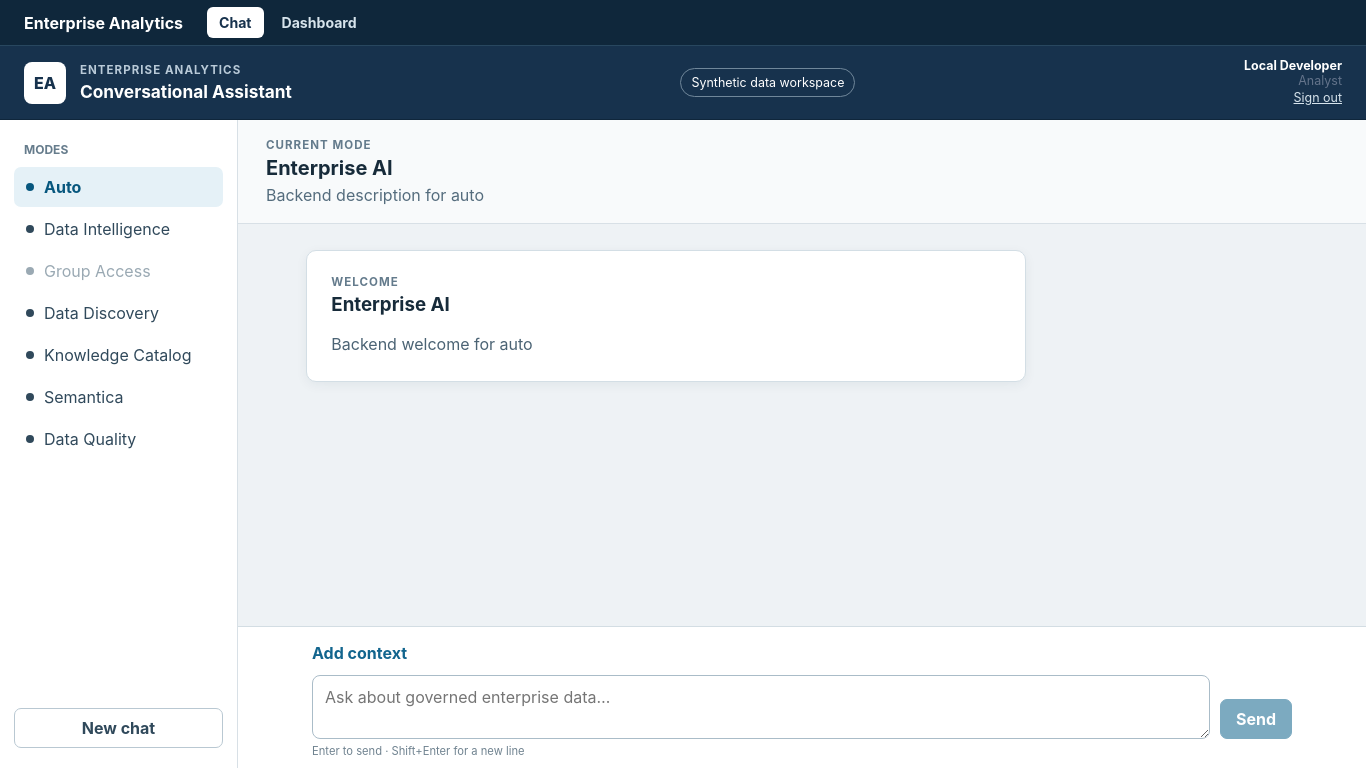
Scenario: One UI › current-turn context is feature gated and clears after successful send
expect the text "Backend welcome for auto" is shown: met, box x1=331 y1=334 x2=533 y2=354
Click the button "Add context" at x=360, y=653, box x1=312 y1=639 x2=407 y2=667
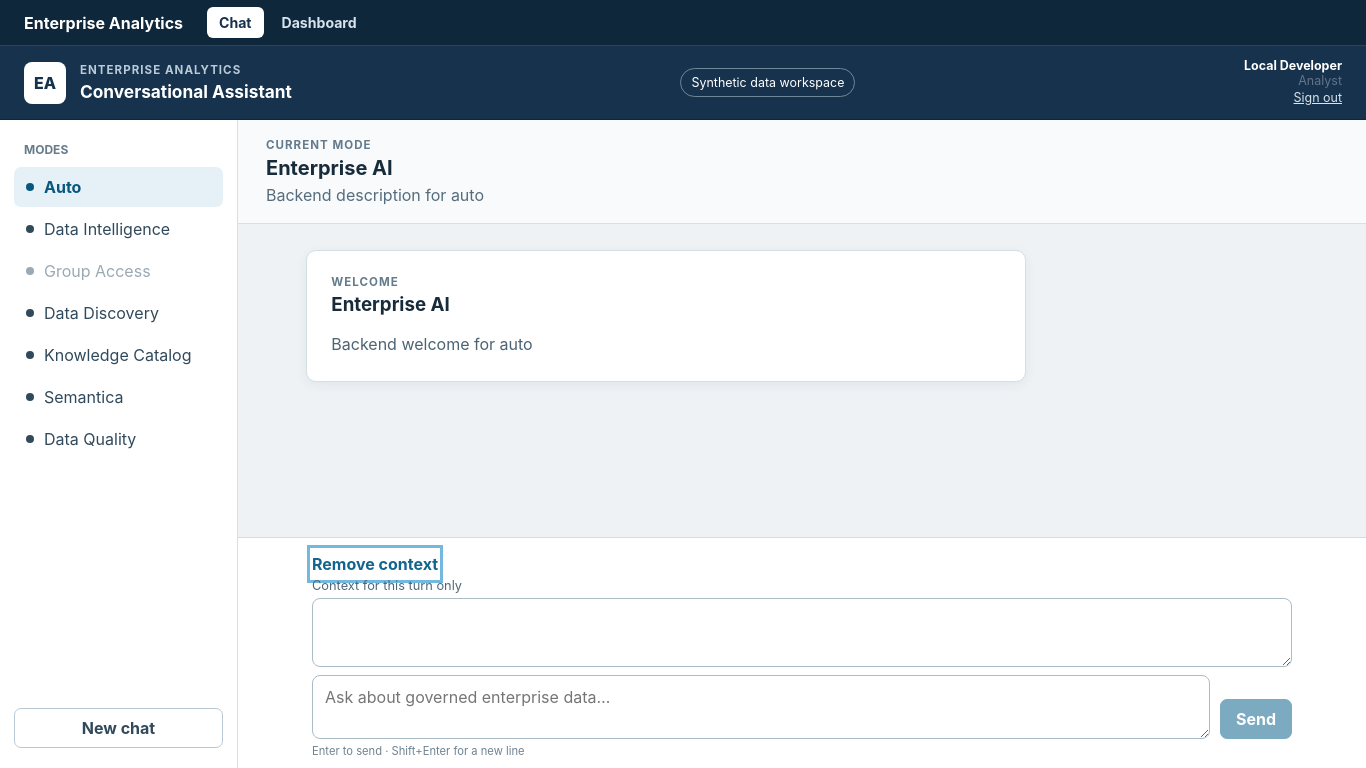
Type "Temporary context" into the text box labelled "Context for this turn only" at x=802, y=632, box x1=312 y1=598 x2=1292 y2=667
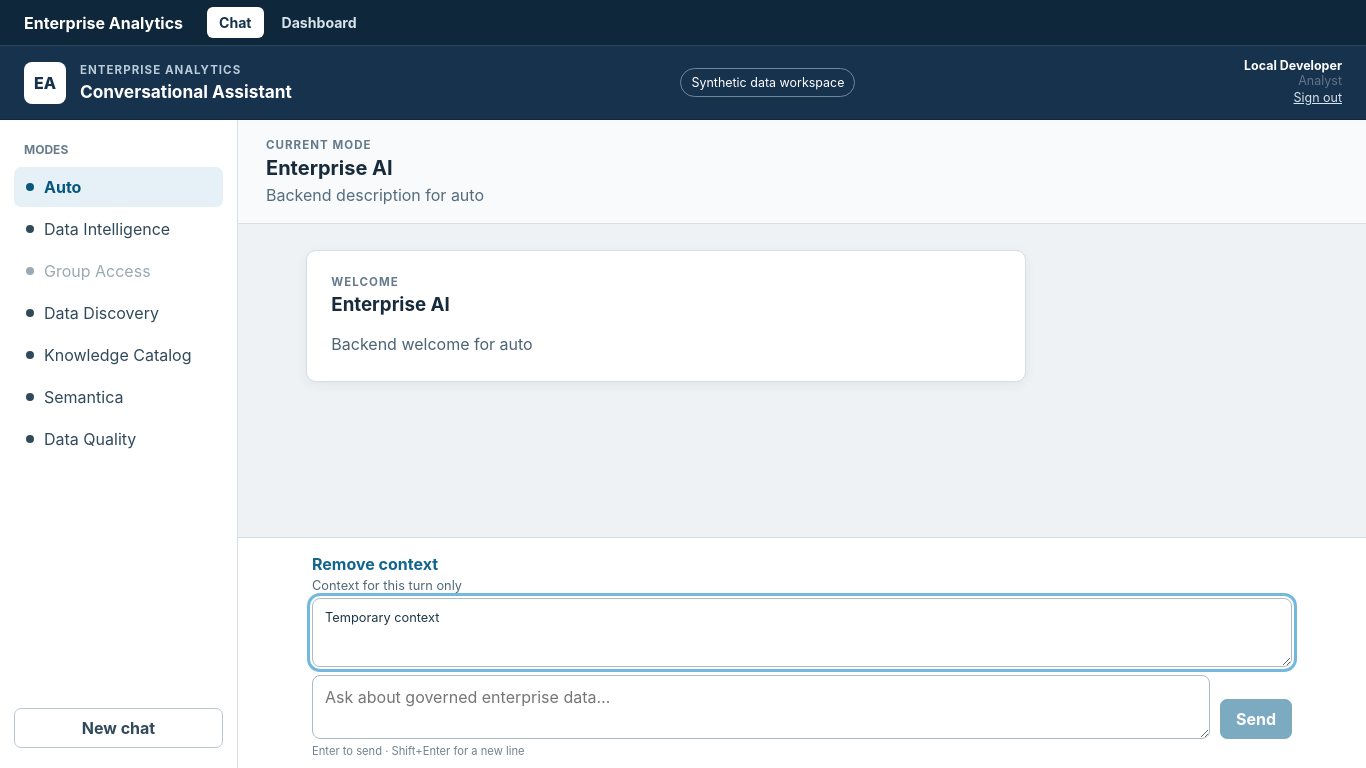
Type "Hello" into the text box named "Message" at x=761, y=707, box x1=312 y1=675 x2=1210 y2=739
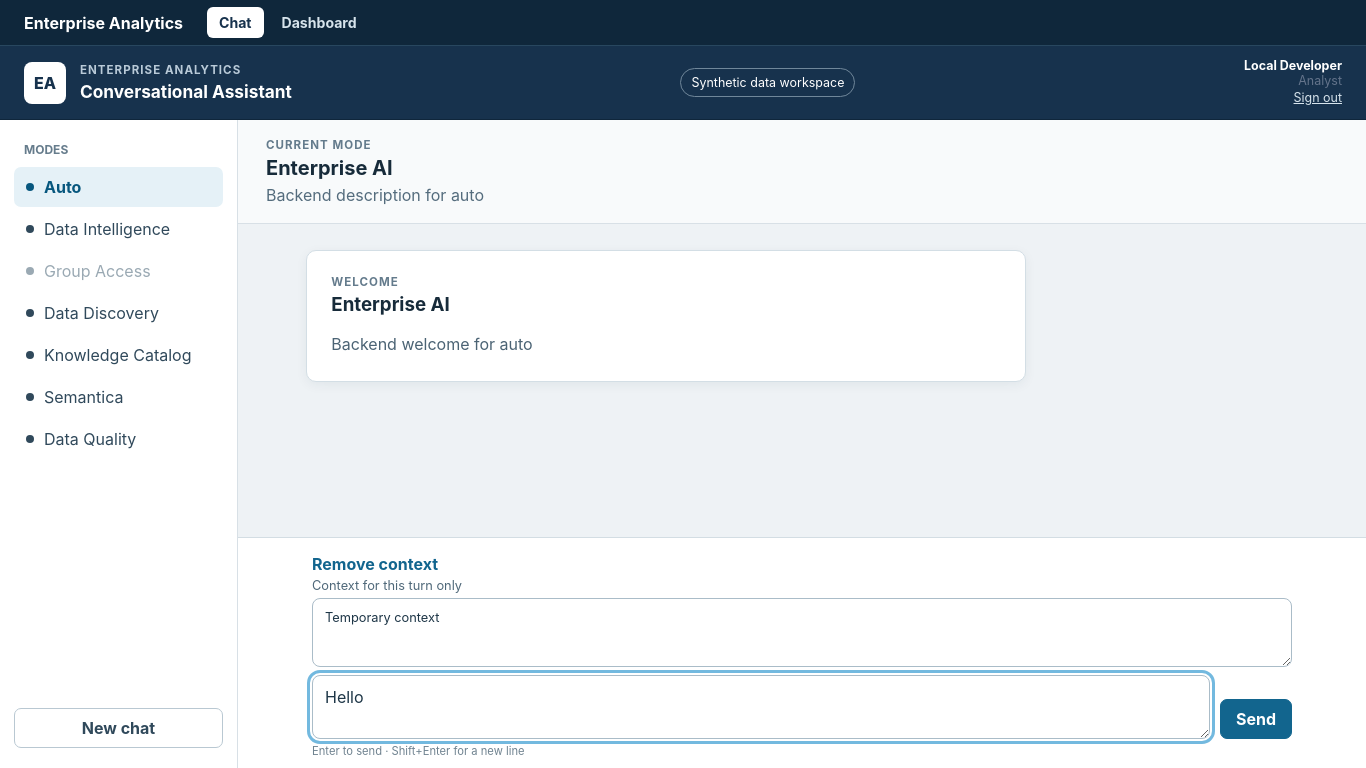
Click the button "Send" at x=1256, y=719, box x1=1220 y1=699 x2=1292 y2=739
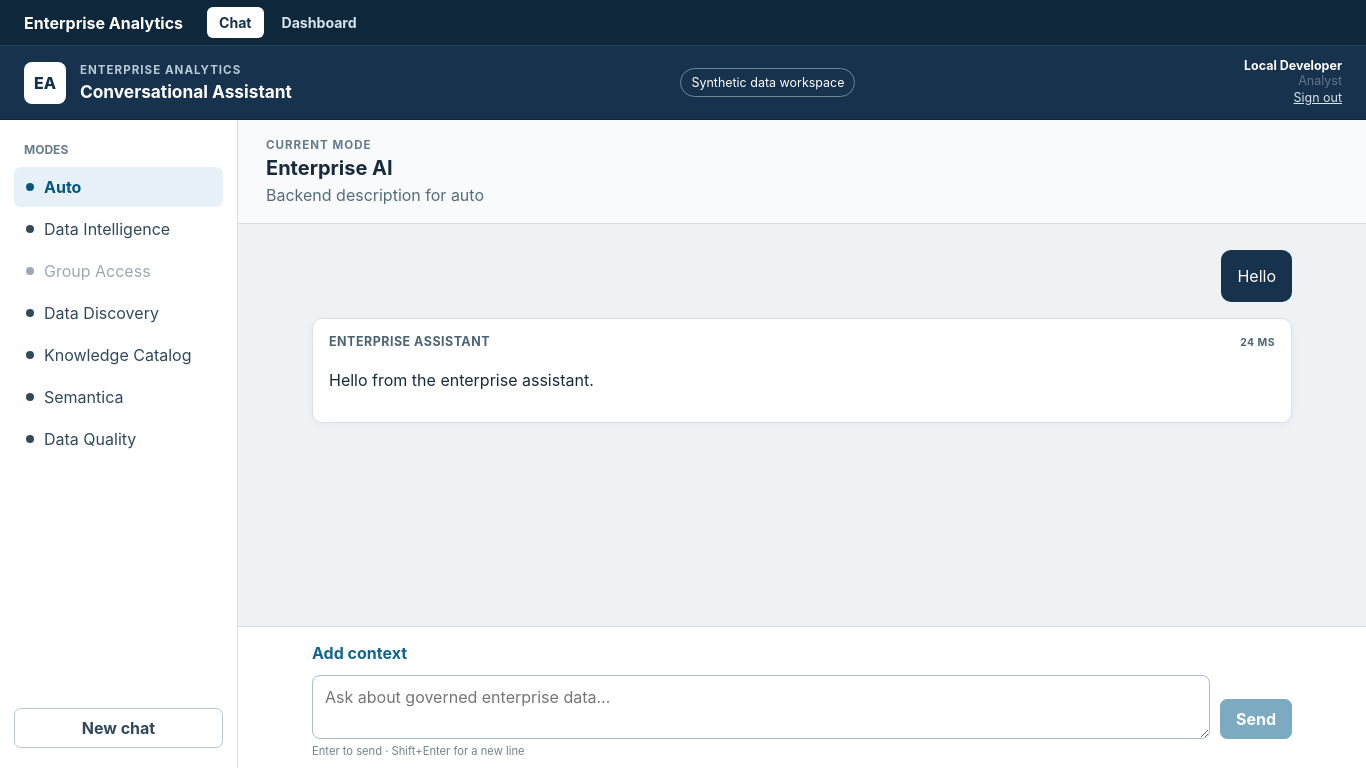
expect the text "Hello from the enterprise assistant." is shown: met, box x1=329 y1=370 x2=594 y2=390
expect the text labelled "Context for this turn only" is gone: met
